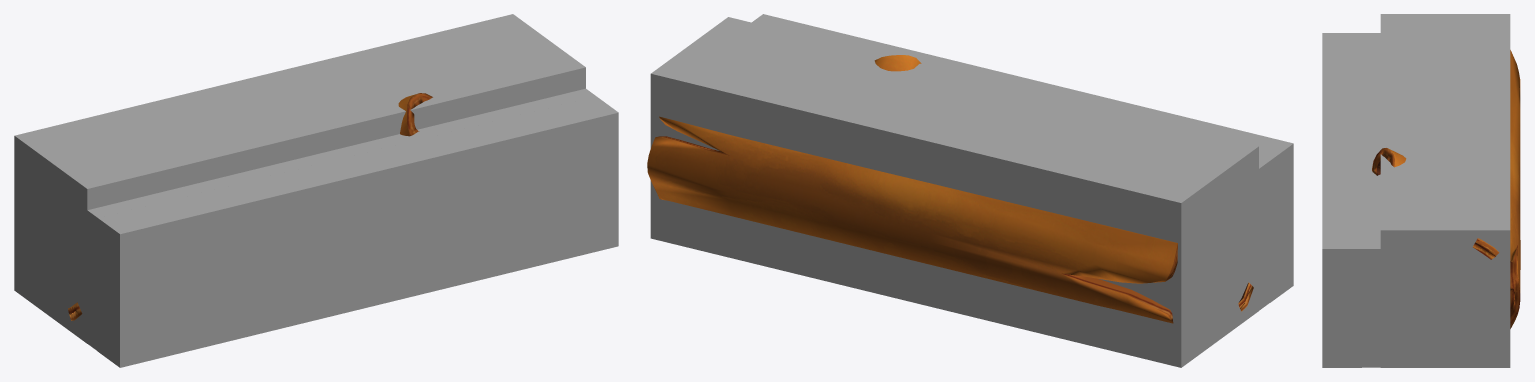
The model's file is TRE_HST_cln.fbx.
3 renders of one model, left to right at view 1: azimuth 30°, elevation 25°; view 2: azimuth 150°, elevation 25°; view 3: azimuth 270°, elevation 25°, orthographic. The views are drawn at different scales.
Parts seen in each view (by area): view 1: TRE_HST_cln0, TRE_HST_cln2, TRE_HST_cln1, TRE_HST; view 2: TRE_HST_cln2, TRE_HST, TRE_HST_cln0, TRE_HST_cln1; view 3: TRE_HST_cln2, TRE_HST_cln0, TRE_HST_cln1, TRE_HST.
Part boxes in pixels (box(x1,y1,x2,y2)): TRE_HST_cln0: box(97, 96, 618, 367); TRE_HST_cln2: box(14, 14, 585, 343); TRE_HST_cln1: box(87, 88, 595, 350); TRE_HST: box(68, 93, 432, 320); TRE_HST_cln2: box(650, 17, 1258, 367); TRE_HST: box(647, 55, 1253, 323); TRE_HST_cln0: box(752, 14, 1293, 302); TRE_HST_cln1: box(1259, 158, 1269, 310); TRE_HST_cln2: box(1380, 14, 1510, 367); TRE_HST_cln0: box(1322, 33, 1361, 367); TRE_HST_cln1: box(1362, 33, 1380, 367); TRE_HST: box(1372, 50, 1520, 328).
Size of the model in its own units: 342 by 106 by 131.
